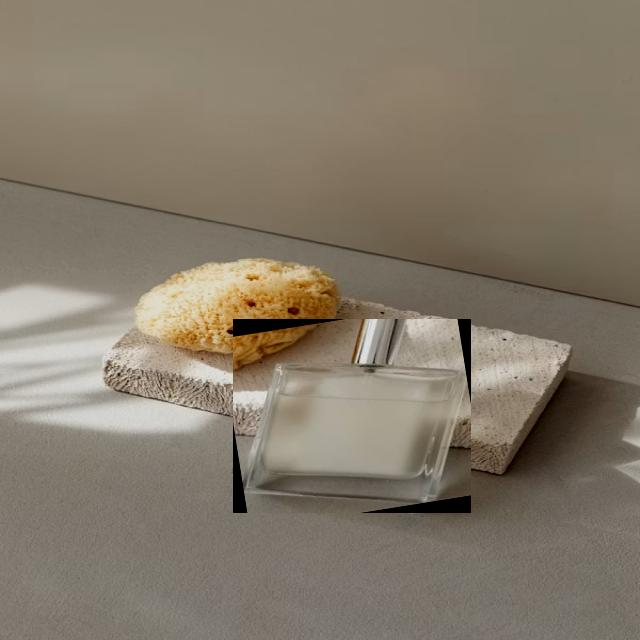Bottle: (234, 320, 471, 513)
